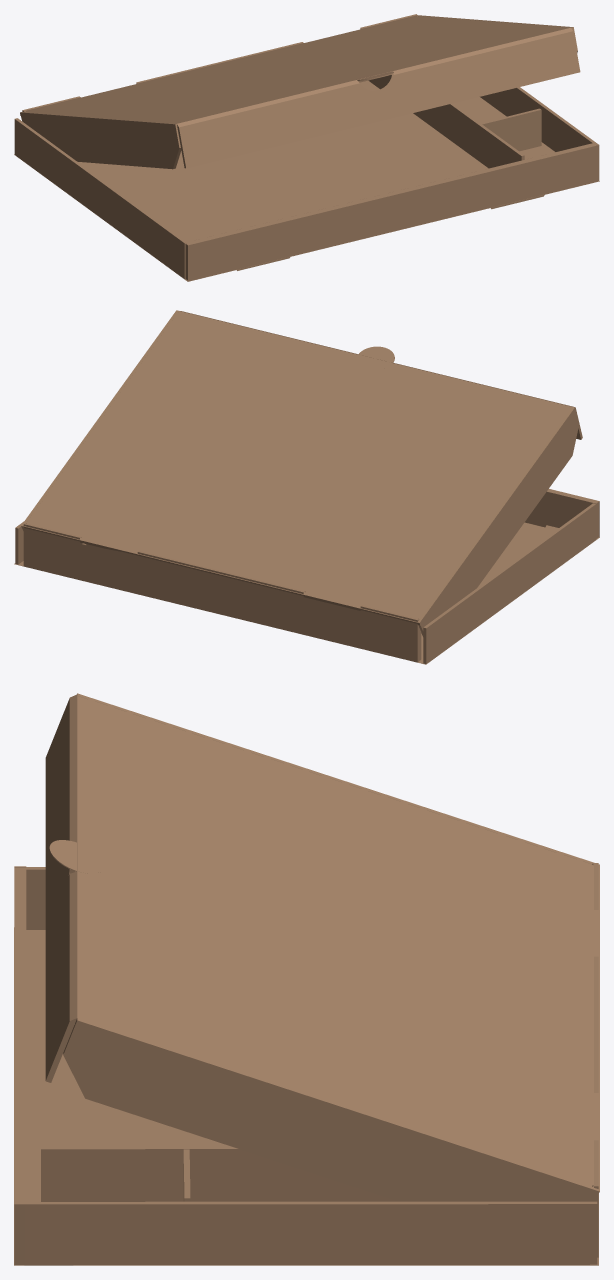
File: Pizza_Box_Potatoes 1.fbx
The picture shows the model from 3 angles, top to bottom: view 1: azimuth 30°, elevation 25°; view 2: azimuth 150°, elevation 25°; view 3: azimuth 270°, elevation 25°; orthographic projection. The views are drawn at different scales.
Parts seen in each view (by area): view 1: Box, Box_top; view 2: Box_top, Box; view 3: Box_top, Box.
Boxes of the visible parts, box(x1,y1,x2,y2) form: Box: box(14, 14, 599, 281); Box_top: box(20, 15, 580, 169); Box_top: box(21, 310, 582, 636); Box: box(14, 489, 599, 664); Box_top: box(45, 693, 599, 1201); Box: box(14, 863, 598, 1265).
Bounding box in the file's own units: 43.77 × 15.5 × 32.05.
